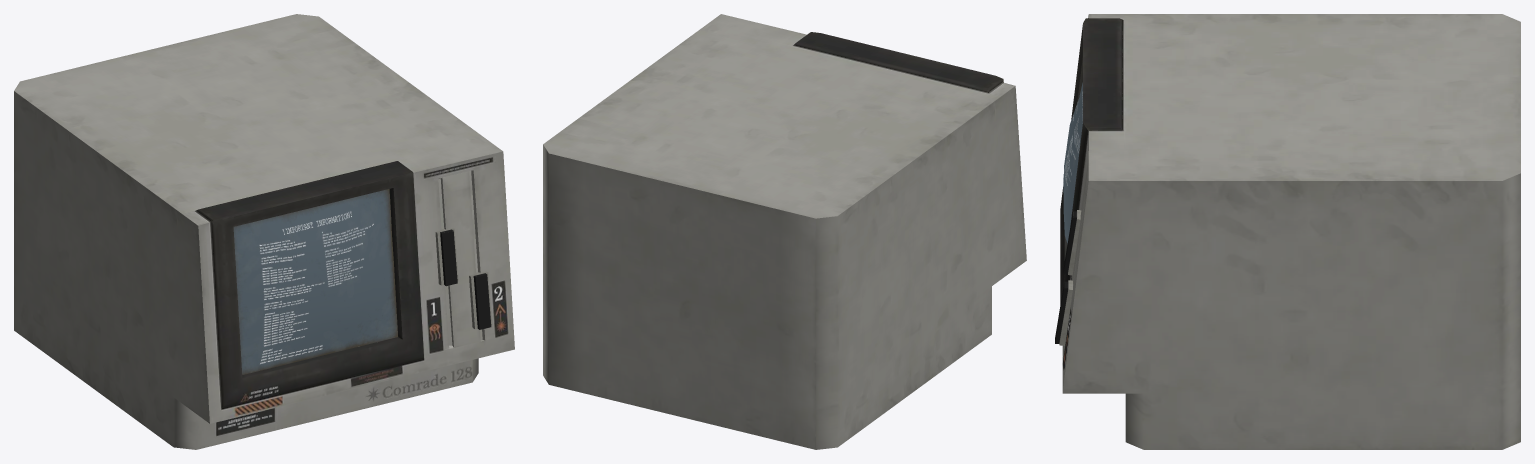
Rendered from computer-transformed.glb.
The picture shows the model from 3 angles, left to right: view 1: azimuth 30°, elevation 25°; view 2: azimuth 150°, elevation 25°; view 3: azimuth 270°, elevation 25°; orthographic projection. The views are drawn at different scales.
Visible parts, largest first — view 1: Object_2, Object_3, Object_4; view 2: Object_2; view 3: Object_2, Object_3, Object_4.
Boxes of the visible parts, x1=… form: Object_2: x1=14, y1=14, x2=514, y2=449; Object_3: x1=233, y1=189, x2=397, y2=374; Object_4: x1=435, y1=228, x2=492, y2=329; Object_2: x1=543, y1=14, x2=1026, y2=449; Object_2: x1=1060, y1=14, x2=1520, y2=449; Object_3: x1=1063, y1=82, x2=1082, y2=243; Object_4: x1=1055, y1=210, x2=1081, y2=345.
Bounding box in the file's own units: 1.5 × 1.14 × 1.77.
Materials: 3 (3 with a texture image).
